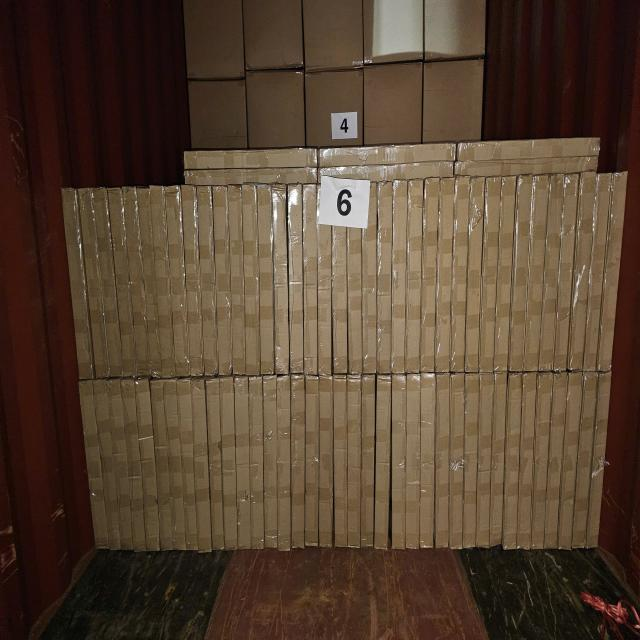Carton: (153, 374, 196, 554), (75, 379, 110, 551), (394, 371, 424, 555), (93, 382, 123, 550), (147, 378, 175, 554), (105, 377, 133, 548), (134, 377, 161, 552), (226, 182, 250, 378), (525, 370, 550, 556), (267, 372, 292, 553), (256, 181, 278, 377), (240, 182, 262, 378), (122, 376, 146, 552), (208, 374, 231, 556), (437, 176, 458, 370), (316, 142, 460, 170), (315, 182, 335, 378), (574, 368, 595, 554), (454, 137, 604, 163), (271, 184, 291, 378), (233, 373, 254, 554), (419, 174, 438, 373), (505, 370, 525, 556), (287, 183, 306, 374), (405, 178, 423, 378), (373, 370, 393, 548), (445, 370, 464, 556), (417, 370, 436, 555), (357, 375, 377, 548), (218, 372, 237, 554), (302, 183, 320, 375), (452, 155, 602, 178), (562, 368, 580, 554), (546, 369, 564, 555), (319, 158, 455, 182), (348, 372, 366, 552), (333, 372, 350, 552), (194, 375, 211, 555), (182, 148, 320, 170), (434, 369, 450, 555), (492, 370, 508, 555), (377, 180, 392, 377), (466, 370, 482, 554), (304, 373, 320, 552), (322, 373, 338, 551), (181, 166, 321, 186), (393, 177, 407, 375), (290, 372, 305, 552), (480, 370, 494, 554)
